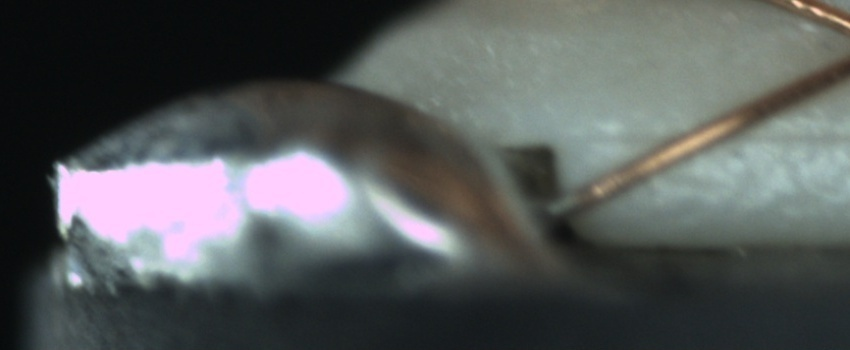DL: (601, 107, 849, 169)
TS: (547, 190, 583, 219)
